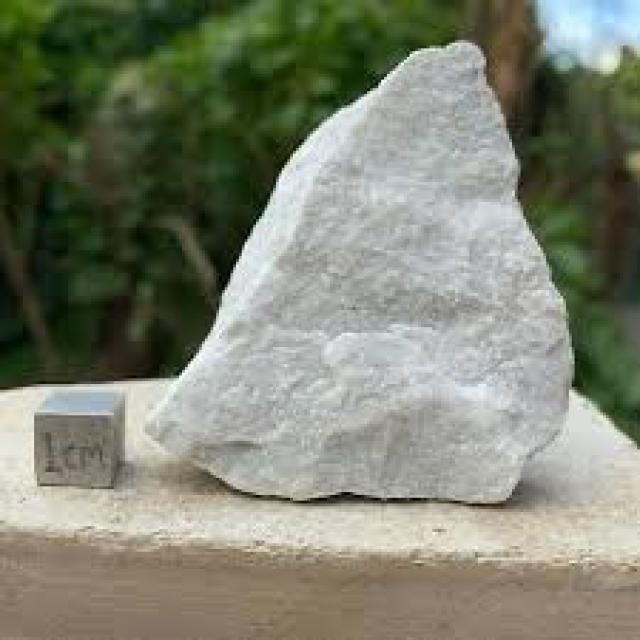Metamorphic: (145, 31, 580, 518)
